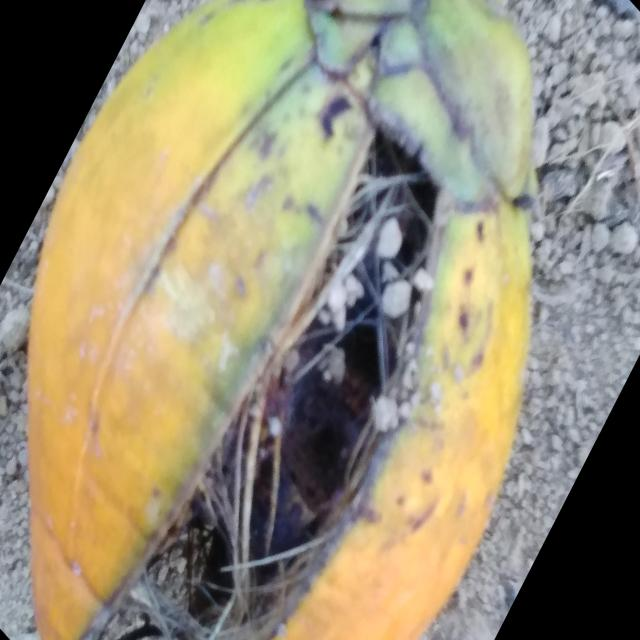damaged: (28, 0, 536, 640)
